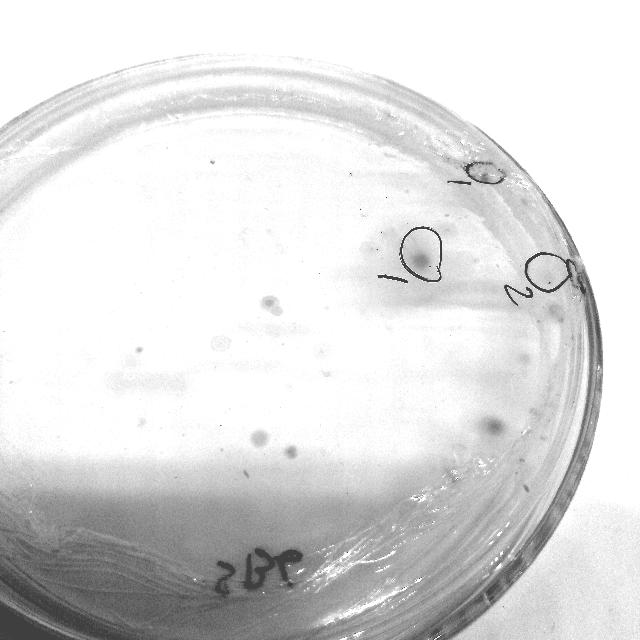colony: (543, 299, 569, 327), (407, 248, 433, 276), (480, 414, 508, 438), (246, 426, 272, 450), (310, 338, 336, 362), (207, 331, 235, 353), (434, 216, 458, 240), (358, 236, 379, 260), (258, 292, 280, 312), (280, 443, 302, 462), (476, 168, 494, 186), (268, 304, 284, 318), (134, 344, 146, 356)
